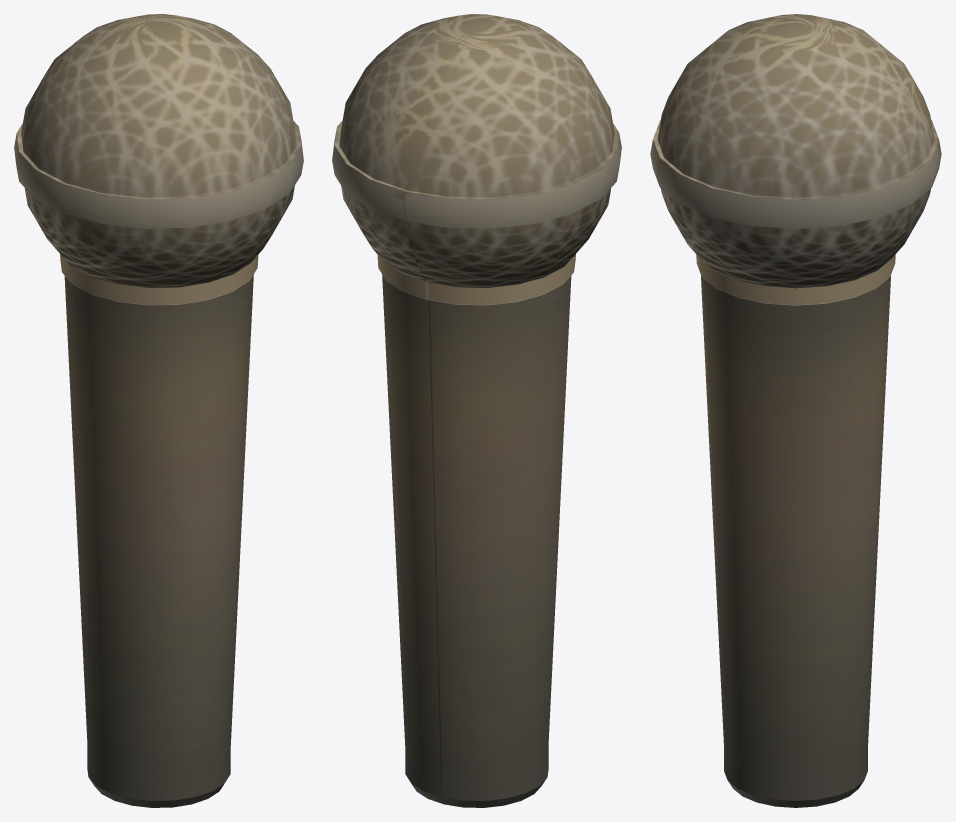
The model's file is mic.fbx.
3 views of the same model, side by side, from view 1: azimuth 30°, elevation 25°; view 2: azimuth 150°, elevation 25°; view 3: azimuth 270°, elevation 25° (orthographic).
Visible parts, largest first — view 1: Sphere; view 2: Sphere; view 3: Sphere.
Part boxes in pixels (x1=…): Sphere: x1=14, y1=14, x2=303, y2=807; Sphere: x1=332, y1=14, x2=621, y2=807; Sphere: x1=650, y1=14, x2=941, y2=807.
Bounding box in the file's own units: 2.06 × 5.94 × 2.06.
1 material, 1 textured.
